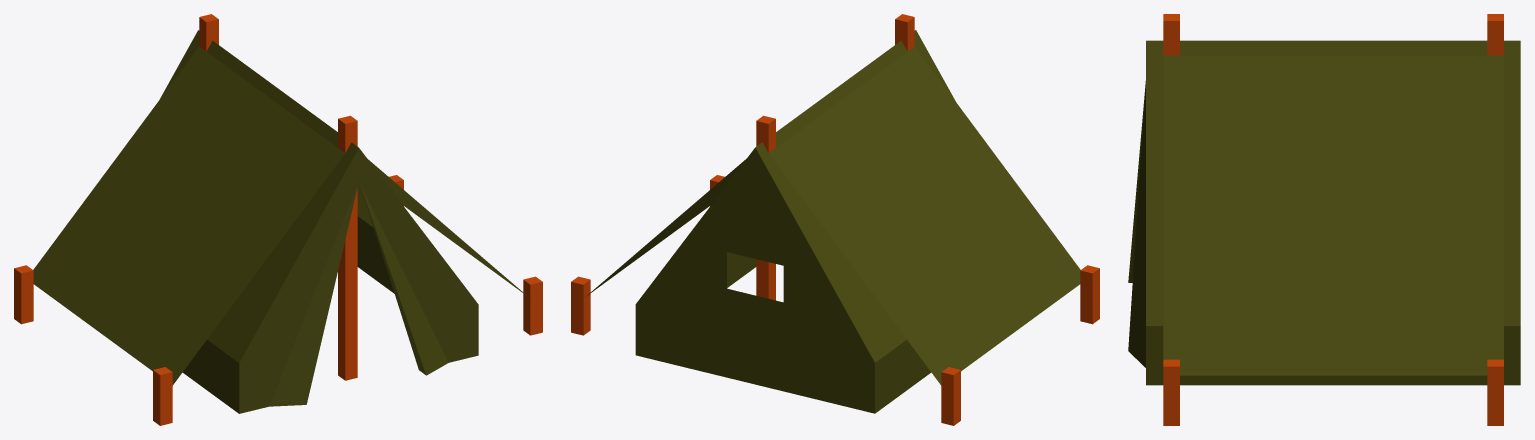
File: tent.obj
3 views of the same model, side by side, from view 1: azimuth 30°, elevation 25°; view 2: azimuth 150°, elevation 25°; view 3: azimuth 270°, elevation 25° (orthographic). The views are drawn at different scales.
Parts seen in each view (by area): view 1: tent_detailedOpen; view 2: tent_detailedOpen; view 3: tent_detailedOpen.
Boxes of the visible parts, x1,y1,x2,y2 form: tent_detailedOpen: (14, 14, 542, 425); tent_detailedOpen: (571, 14, 1099, 425); tent_detailedOpen: (1128, 14, 1520, 425).
Bounding box in the file's own units: 0.8749 × 0.5611 × 0.6664.
